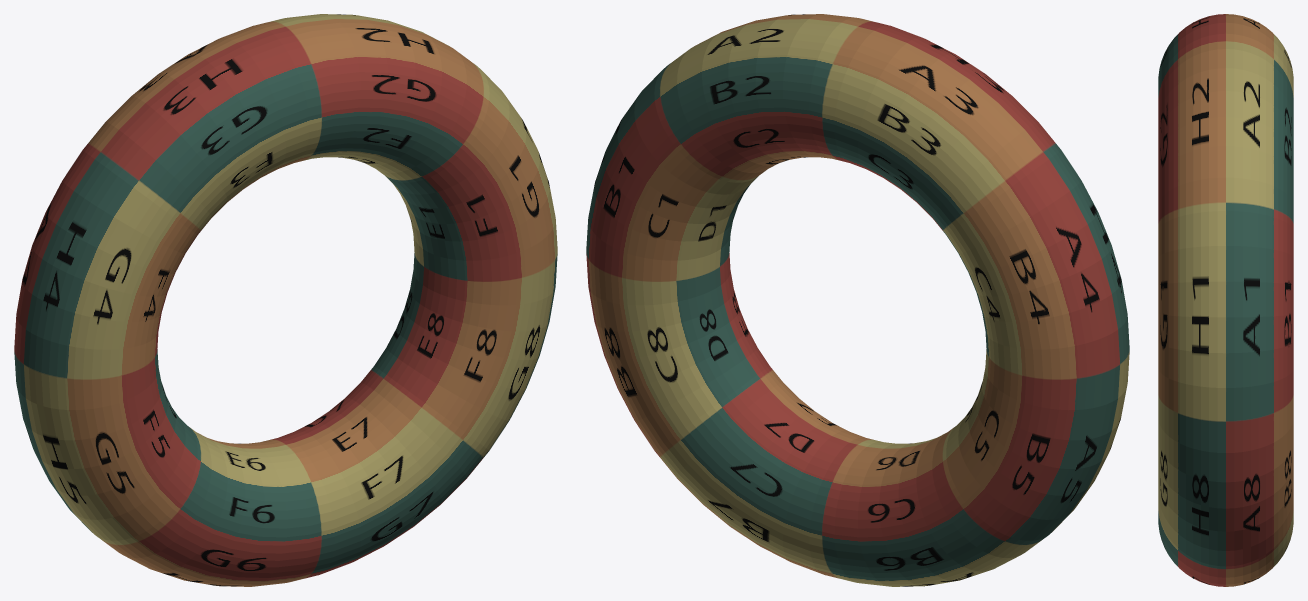
Rendered from texture_torus_R5_r8.glb.
3 views of the same model, side by side, from view 1: azimuth 30°, elevation 25°; view 2: azimuth 150°, elevation 25°; view 3: azimuth 270°, elevation 25° (orthographic). The views are drawn at different scales.
Visible parts, largest first — view 1: world; view 2: world; view 3: world.
Boxes of the visible parts, bbox=[...] form: world: bbox=[14, 14, 557, 586]; world: bbox=[586, 14, 1129, 586]; world: bbox=[1158, 14, 1293, 586].
Bounding box in the file's own units: 17.47 × 17.43 × 4.13.
Materials: 1 (1 with a texture image).
